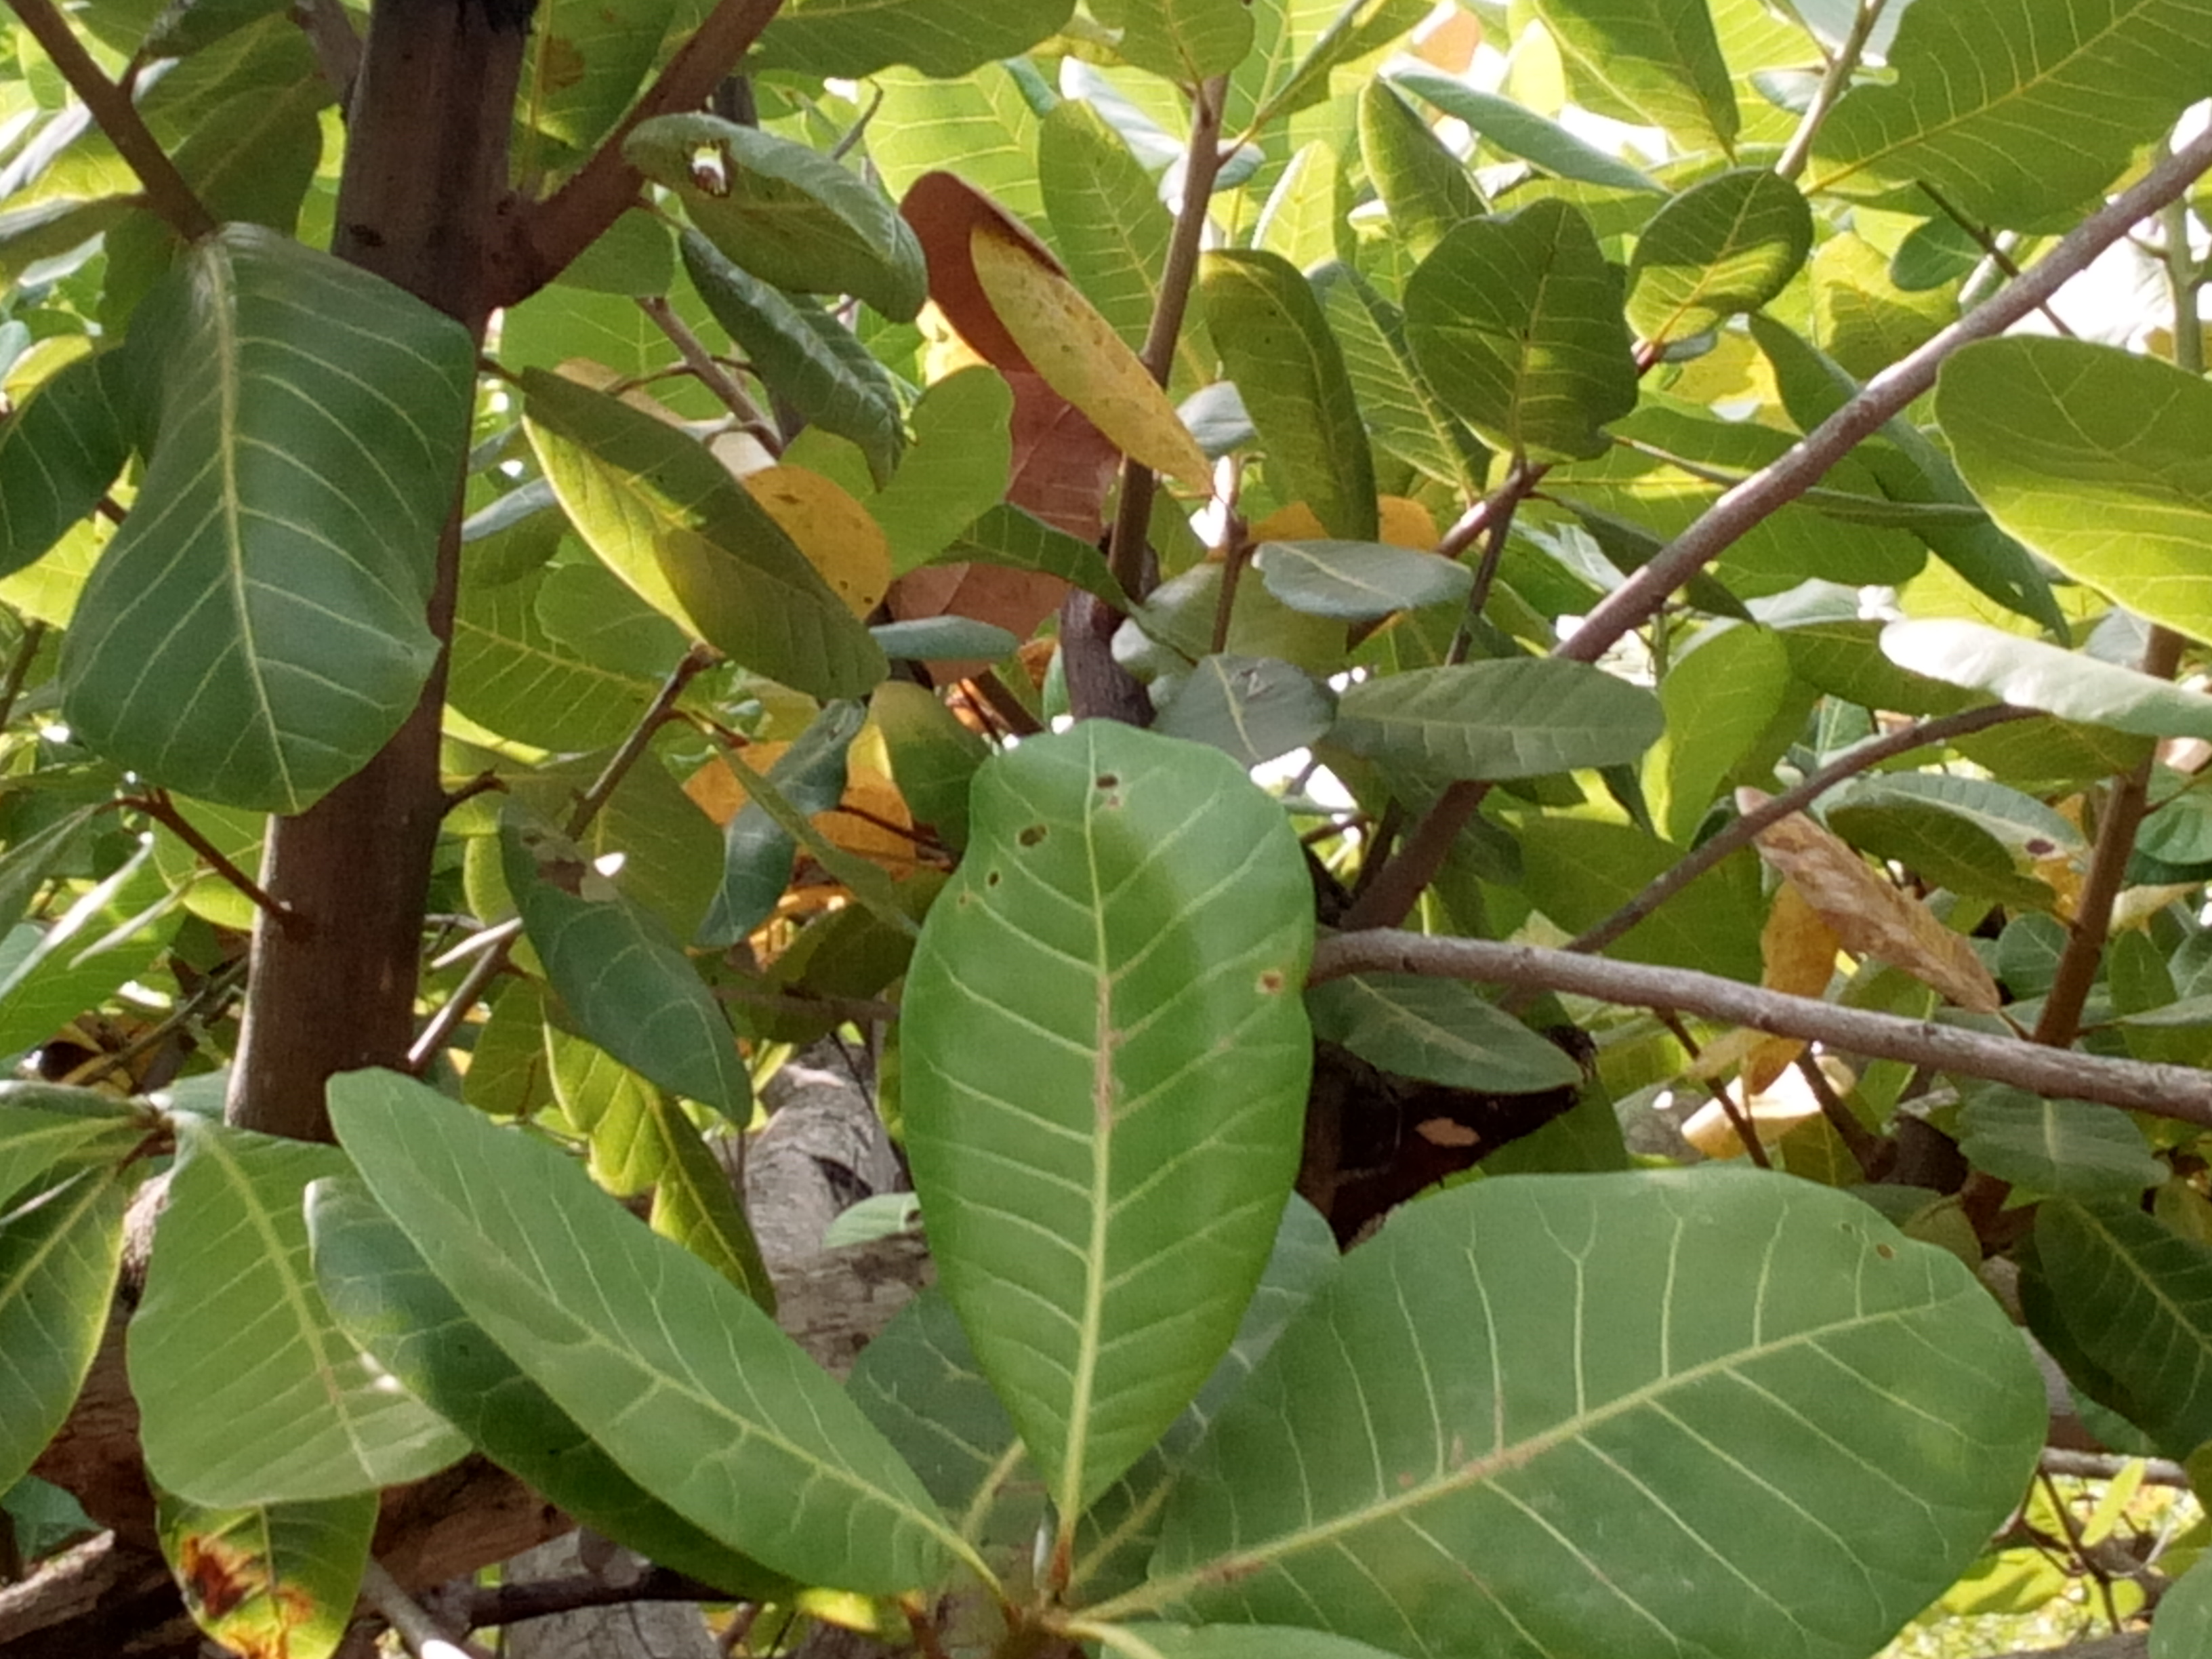Anoplocnemis curvipes: (958, 732, 1287, 1480)
